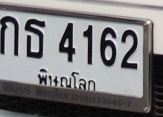txt01: (1, 14, 20, 58)
txt19: (24, 18, 46, 60)
